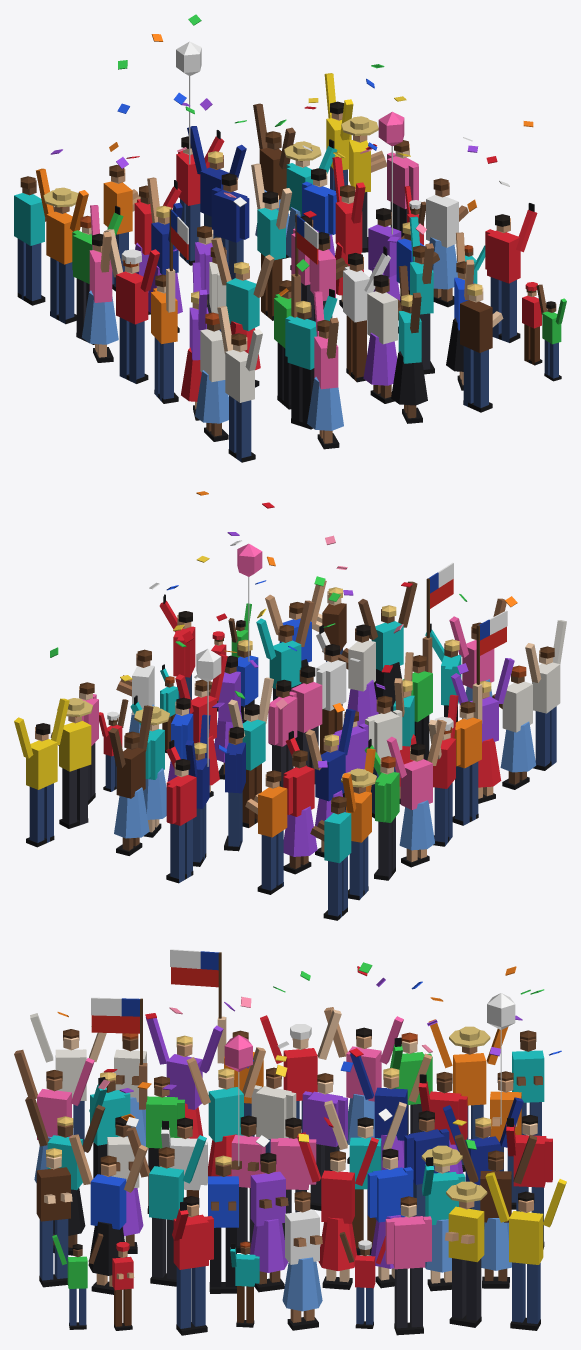
The model's file is multitud_fiesta_4.obj.
The picture shows the model from 3 angles, top to bottom: view 1: azimuth 30°, elevation 25°; view 2: azimuth 150°, elevation 25°; view 3: azimuth 270°, elevation 25°; orthographic projection. The views are drawn at different scales.
Parts seen in each view (by area): view 1: multitud_fiesta_4; view 2: multitud_fiesta_4; view 3: multitud_fiesta_4.
Part boxes in pixels (box(x1,y1,x2,y2)): multitud_fiesta_4: box(14, 14, 566, 462); multitud_fiesta_4: box(14, 491, 566, 920); multitud_fiesta_4: box(14, 949, 566, 1335).
Size of the model in its own units: 5.28 by 3.36 by 6.45.
